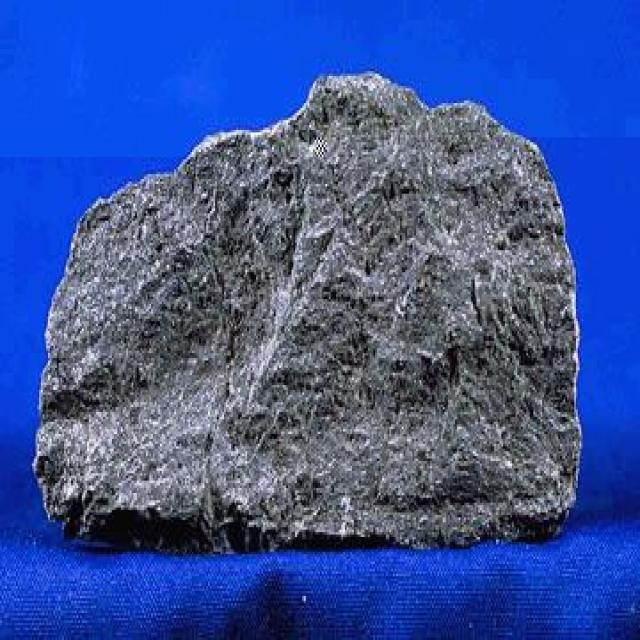Igneous: (23, 71, 585, 552)
